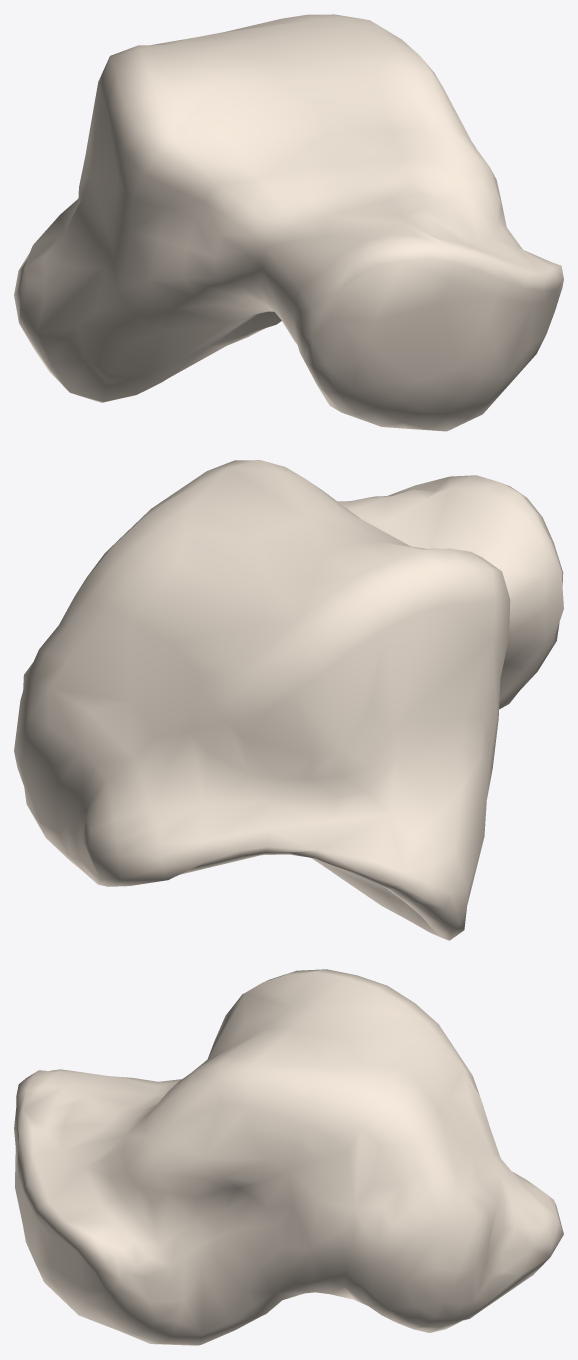
The model's file is right_talus.glb.
The picture shows the model from 3 angles, top to bottom: view 1: azimuth 30°, elevation 25°; view 2: azimuth 150°, elevation 25°; view 3: azimuth 270°, elevation 25°; orthographic projection. The views are drawn at different scales.
Visible parts, largest first — view 1: Talus.r; view 2: Talus.r; view 3: Talus.r.
Boxes of the visible parts, x1,y1,x2,y2 form: Talus.r: [14, 14, 563, 431]; Talus.r: [14, 460, 563, 940]; Talus.r: [14, 969, 563, 1345].
Size of the model in its own units: 0.0422 by 0.0344 by 0.0582.
